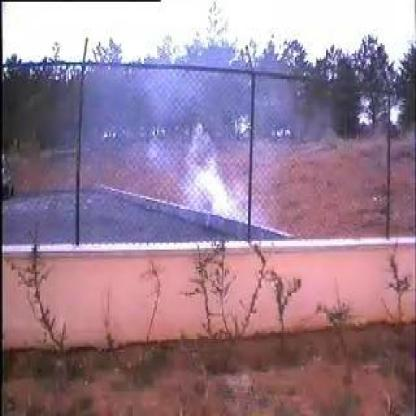-: (130, 79, 268, 221)
